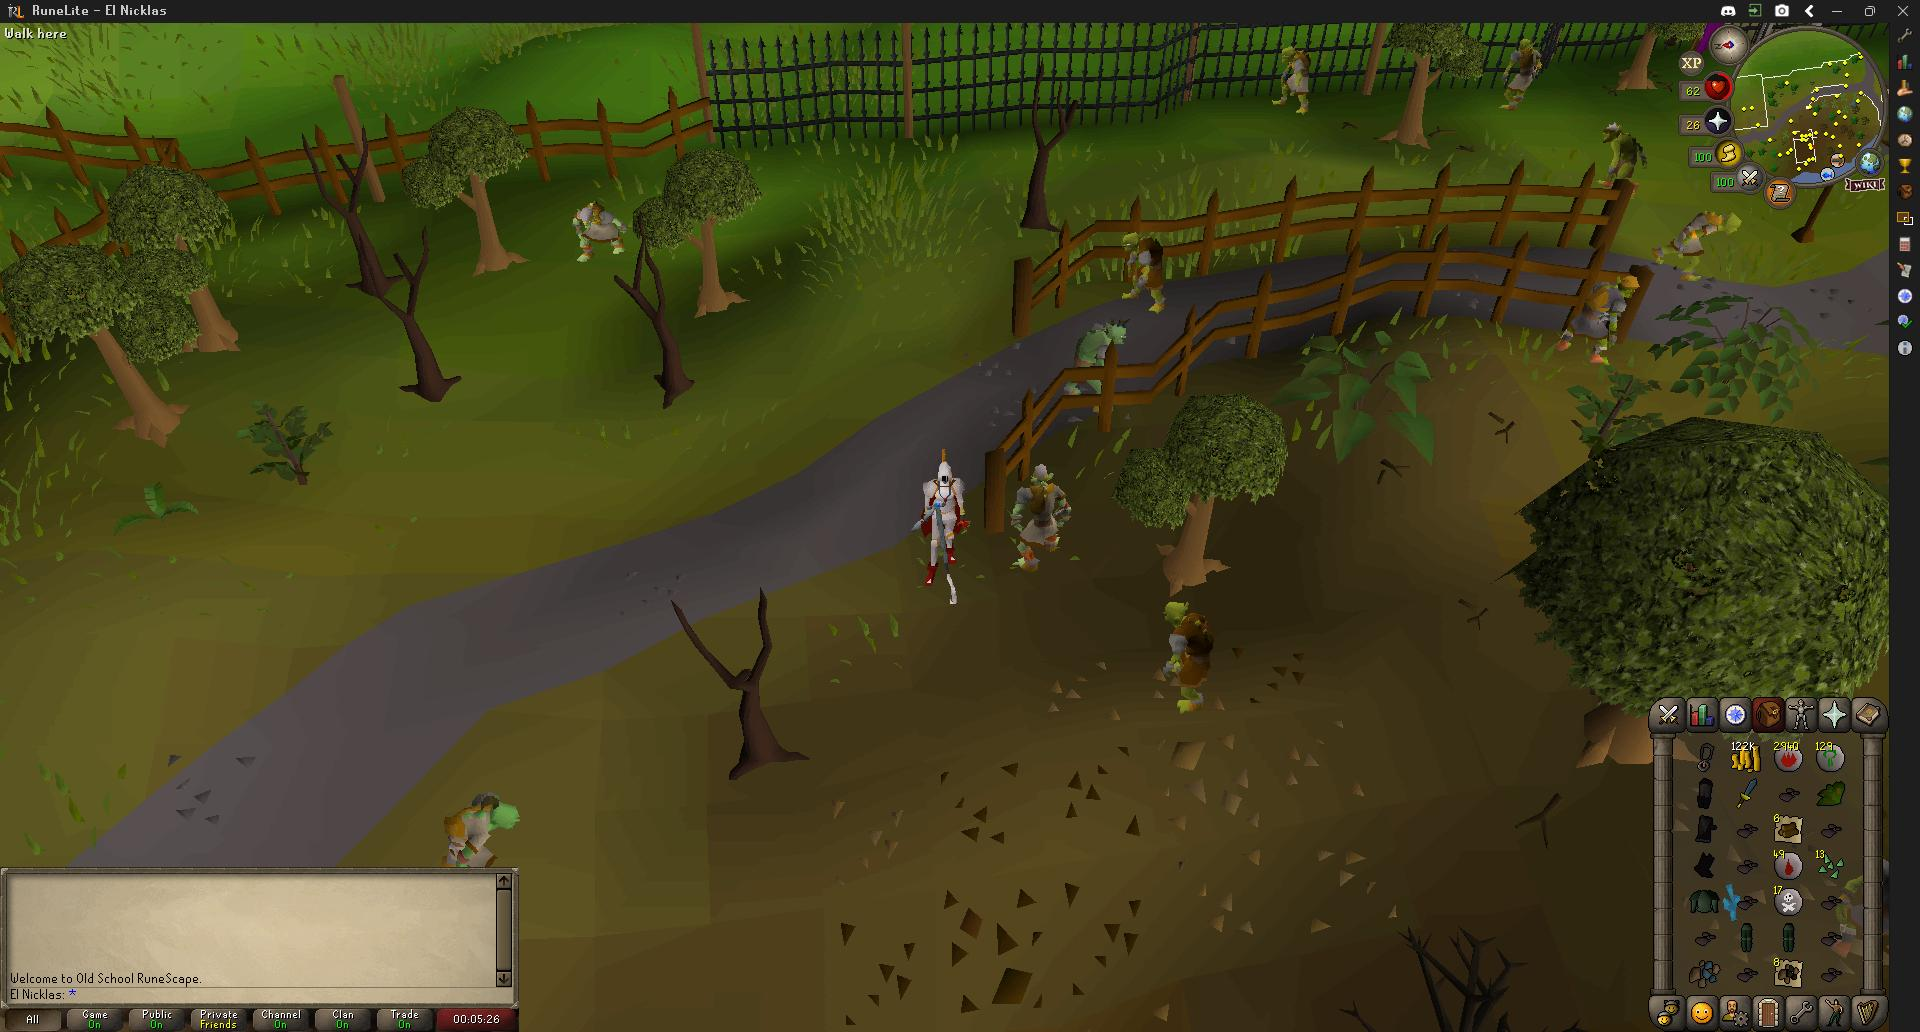Player: (913, 449, 971, 595)
goblin: (1558, 272, 1637, 363), (1012, 460, 1064, 569), (1656, 210, 1736, 279), (1157, 607, 1215, 690), (1120, 234, 1172, 316), (571, 201, 628, 262), (1598, 121, 1645, 189), (1499, 37, 1542, 110), (1278, 45, 1314, 115)
